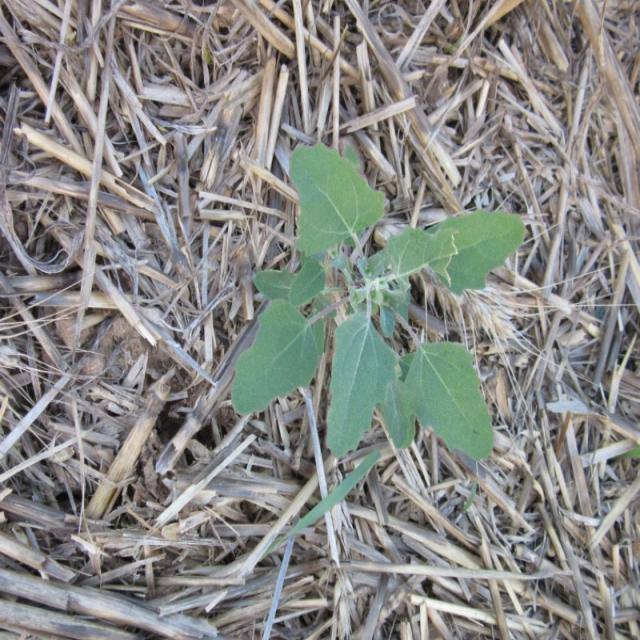ca: (233, 143, 527, 460)
